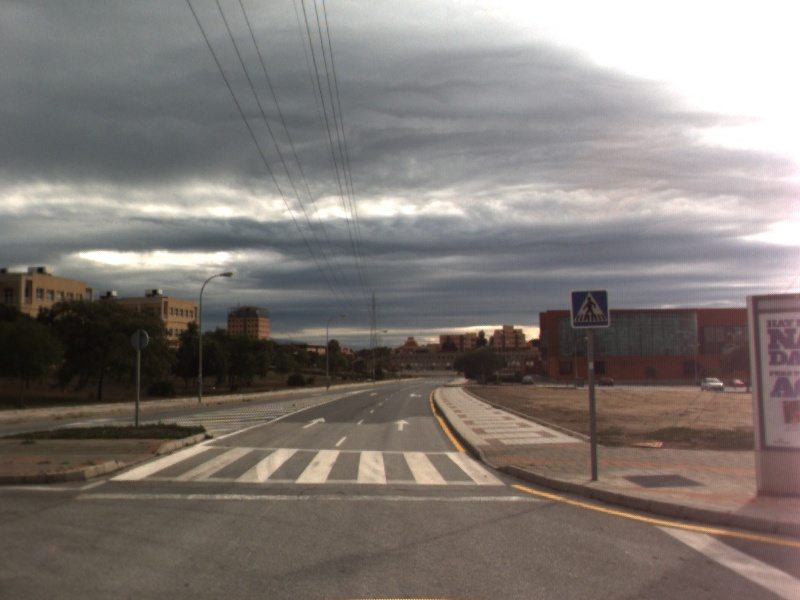STRAIGHT: (300, 415, 328, 430), (391, 418, 412, 433)
